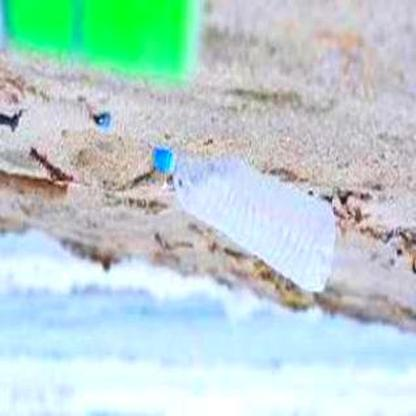plastic bottle: (152, 144, 334, 294)
